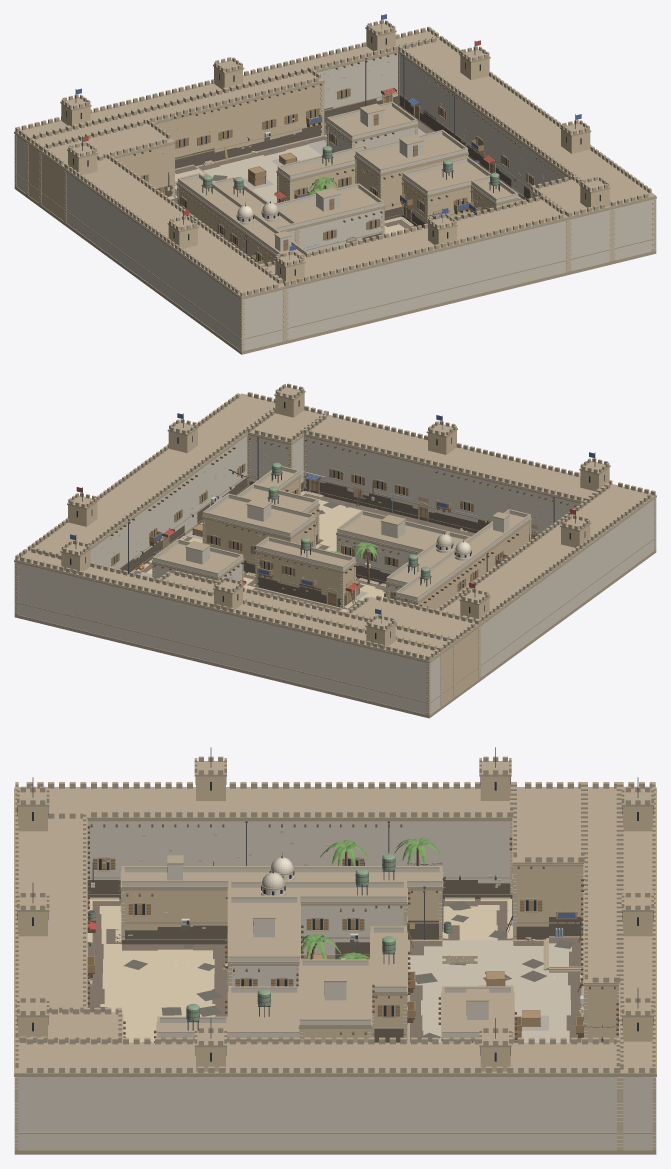
The model's file is dunehold_yard.glb.
3 renders of one model, top to bottom at view 1: azimuth 30°, elevation 25°; view 2: azimuth 150°, elevation 25°; view 3: azimuth 270°, elevation 25°, orthographic. The views are drawn at different scales.
Parts seen in each view (by area): view 1: trim, plaster, sandstone, stone, grime, wood, tiles, darkwood, iron, dirt, glass, barrel; view 2: trim, plaster, sandstone, grime, stone, wood, sand, darkwood, dirt, iron, glass, barrel; view 3: trim, plaster, sandstone, sand, tiles, dirt, grime, stone, wood, darkwood, decal, leaf (+3 smaller).
Part boxes in pixels (left/top/right/bottom): trim: left=14, top=20, right=656, bottom=354; plaster: left=16, top=53, right=655, bottom=350; sandstone: left=28, top=29, right=609, bottom=284; stone: left=14, top=53, right=656, bottom=351; grime: left=156, top=95, right=530, bottom=254; wood: left=141, top=88, right=534, bottom=264; tiles: left=175, top=145, right=321, bottom=214; darkwood: left=133, top=53, right=560, bottom=260; iron: left=75, top=14, right=575, bottom=259; dirt: left=172, top=106, right=521, bottom=230; glass: left=66, top=36, right=600, bottom=275; barrel: left=203, top=146, right=499, bottom=189; trim: left=14, top=383, right=656, bottom=718; plaster: left=15, top=435, right=654, bottom=714; sandstone: left=61, top=393, right=609, bottom=704; grime: left=120, top=477, right=490, bottom=608; stone: left=14, top=435, right=656, bottom=715; wood: left=111, top=463, right=536, bottom=610; sand: left=136, top=490, right=385, bottom=608; darkwood: left=111, top=437, right=576, bottom=609; dirt: left=134, top=493, right=475, bottom=612; iron: left=75, top=413, right=595, bottom=623; glass: left=70, top=400, right=604, bottom=639; barrel: left=153, top=462, right=430, bottom=578; trim: left=14, top=756, right=656, bottom=1154; plaster: left=15, top=821, right=655, bottom=1149; sandstone: left=18, top=776, right=652, bottom=1071; sand: left=87, top=897, right=512, bottom=1042; tiles: left=262, top=872, right=571, bottom=1042; dirt: left=87, top=899, right=581, bottom=1042; grime: left=87, top=880, right=581, bottom=1042; stone: left=14, top=822, right=656, bottom=1150; wood: left=87, top=858, right=583, bottom=1042; darkwood: left=87, top=824, right=618, bottom=1042; decal: left=91, top=901, right=575, bottom=1042; leaf: left=301, top=838, right=442, bottom=959.
Size of the model in its own units: 76.28 by 16.01 by 72.28.
